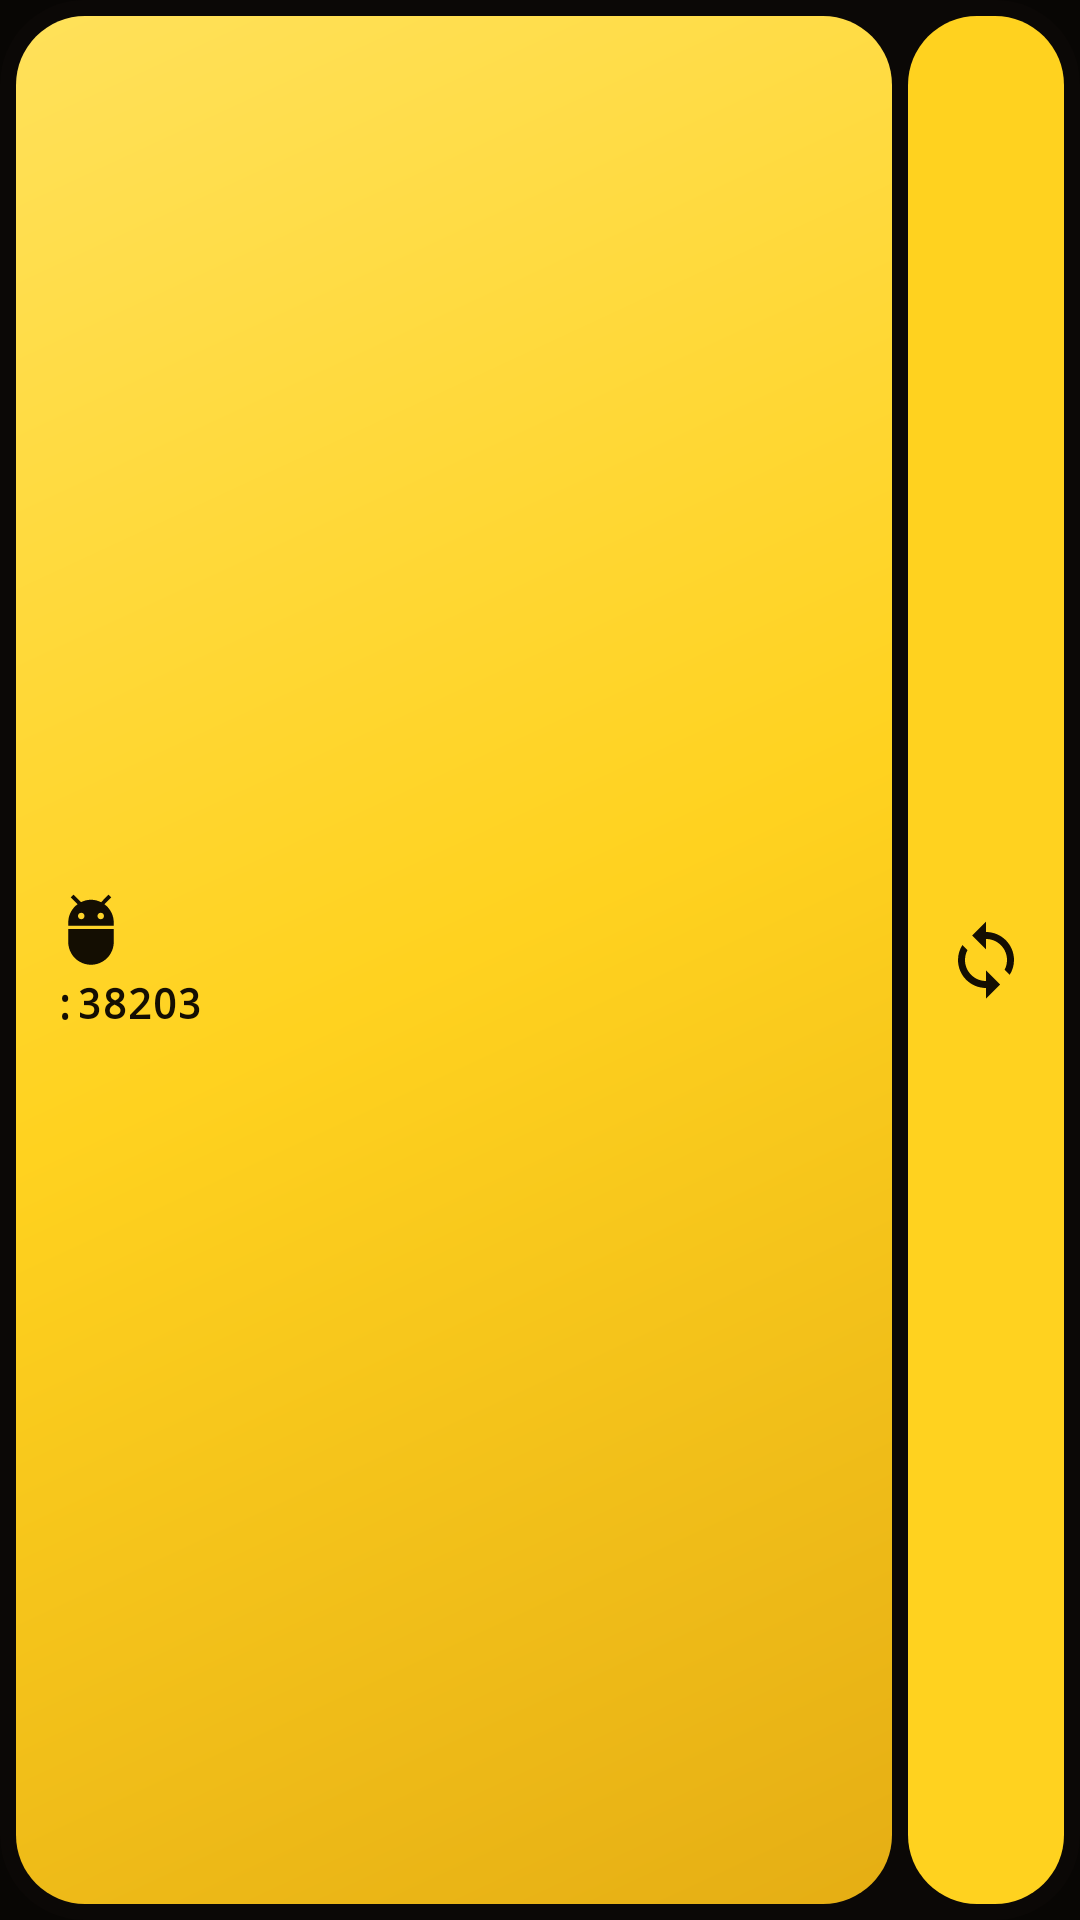

Locate icon controls on the screen. Image size 1080 × 1920, boxes as (x1, y1, x2, y2).
widget keep alive: (958, 922, 1014, 999)
